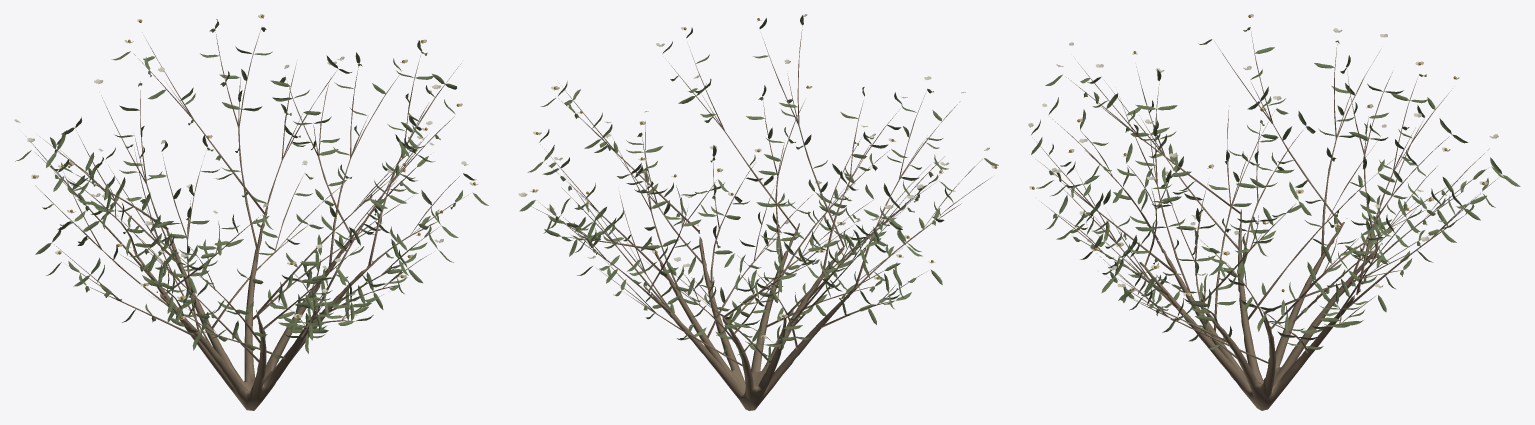
Rendered from Ciste_1_Niveau0.fbx.
3 renders of one model, left to right at view 1: azimuth 30°, elevation 25°; view 2: azimuth 150°, elevation 25°; view 3: azimuth 270°, elevation 25°, orthographic. The views are drawn at different scales.
Parts seen in each view (by area): view 1: Ciste_1_Niveau0; view 2: Ciste_1_Niveau0; view 3: Ciste_1_Niveau0.
Boxes of the visible parts, x1,y1,x2,y2 form: Ciste_1_Niveau0: [14, 14, 488, 410]; Ciste_1_Niveau0: [518, 14, 998, 410]; Ciste_1_Niveau0: [1028, 14, 1520, 410].
Bounding box in the file's own units: 117 × 88.81 × 118.
